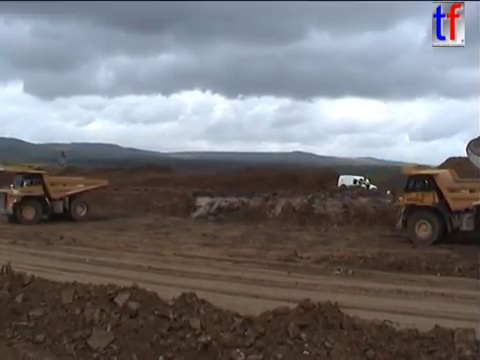excavator: (464, 131, 480, 169)
truck: (384, 163, 480, 247), (1, 163, 109, 225)
worker: (362, 175, 371, 196), (356, 176, 364, 196)
